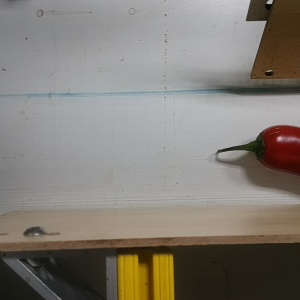Cut Point: (250, 124, 278, 171)
